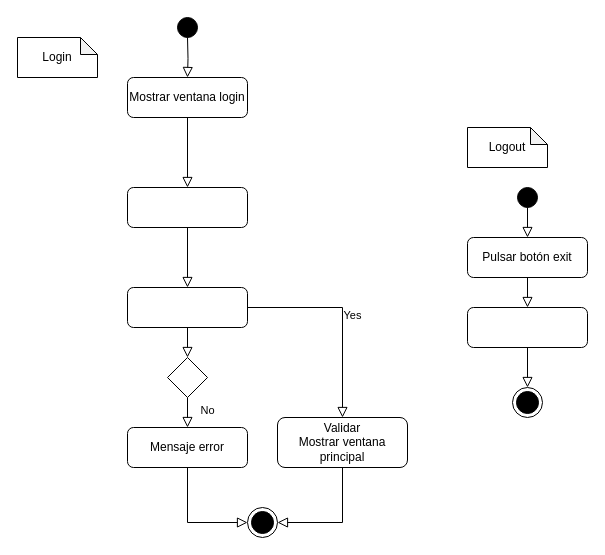
The diagram is 605 pixels wide and 555 high, and some of its shapes have lost their labels. Each missing label, with the centre of its shape:
"Cerrar programa" goes at (527,327).
"Validar mediante librería" goes at (187,307).
"Validar usuario y contraseña" goes at (187,207).
